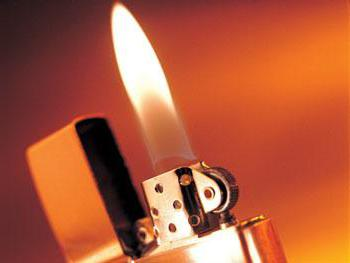fire: (100, 2, 213, 187)
